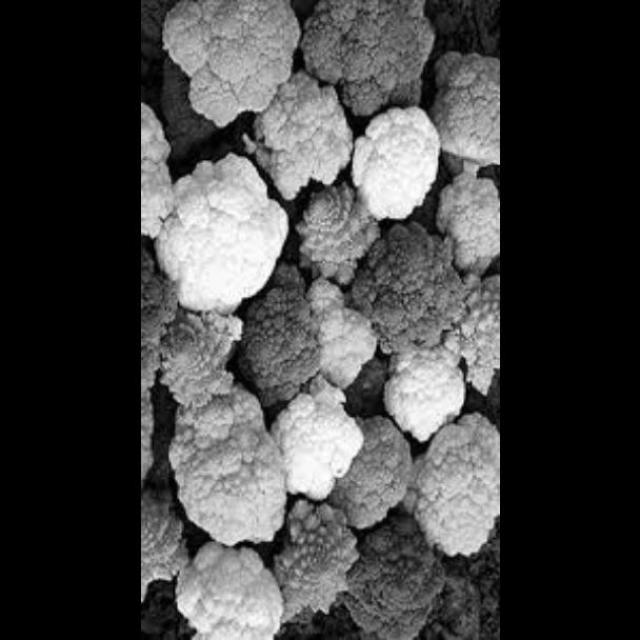cauliflower: (152, 145, 294, 322), (164, 372, 288, 548), (157, 1, 304, 134), (304, 0, 450, 122), (236, 68, 360, 199), (356, 219, 471, 352), (397, 418, 500, 555), (345, 511, 449, 638), (269, 496, 367, 630), (170, 538, 294, 639), (333, 406, 431, 530), (268, 381, 364, 501), (354, 110, 448, 228), (282, 172, 385, 279), (162, 301, 260, 406), (424, 39, 501, 169), (387, 338, 476, 447), (438, 264, 501, 412), (296, 275, 382, 382), (428, 168, 500, 276), (142, 101, 191, 246), (141, 480, 187, 613), (142, 252, 184, 390)
